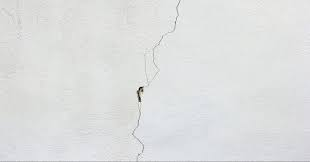crack: (129, 0, 178, 161)
